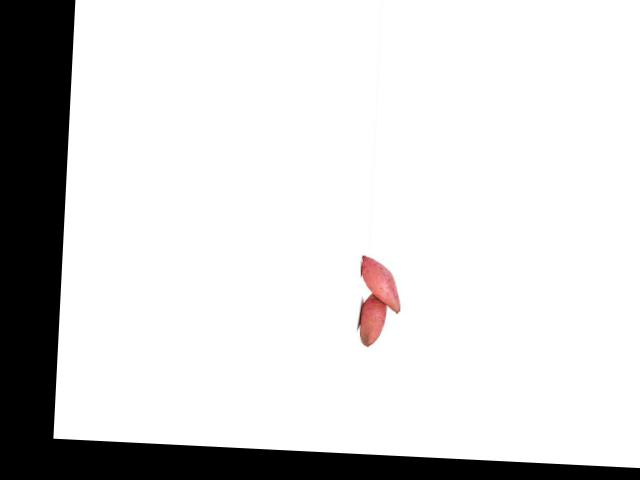sweet_potato: (358, 288, 391, 349)
